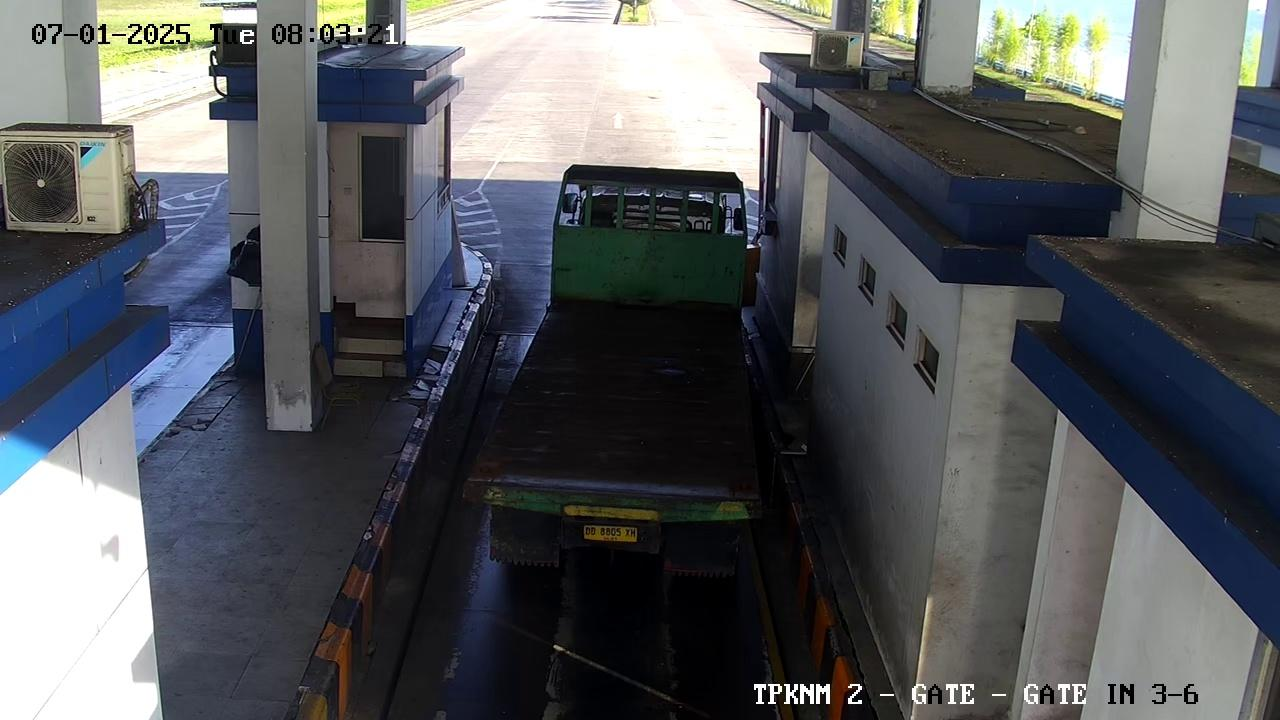plate_number: (560, 513, 653, 554)
